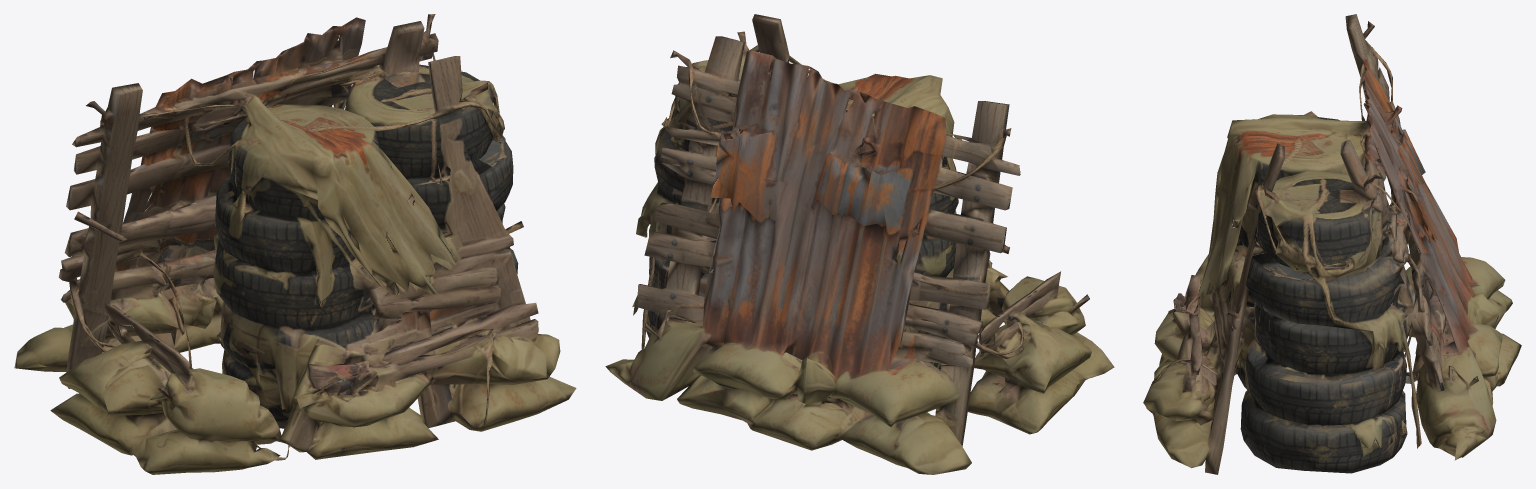
File: City_Barricade.fbx
3 views of the same model, side by side, from view 1: azimuth 30°, elevation 25°; view 2: azimuth 150°, elevation 25°; view 3: azimuth 270°, elevation 25° (orthographic). The views are drawn at different scales.
Visible parts, largest first — view 1: City_Barricade; view 2: City_Barricade; view 3: City_Barricade.
Part boxes in pixels (<box>): City_Barricade: <box>14,14,576,474</box>; City_Barricade: <box>605,14,1114,474</box>; City_Barricade: <box>1143,14,1521,474</box>.
Size of the model in its own units: 2.5 by 1.89 by 2.11.
1 material, 1 textured.
